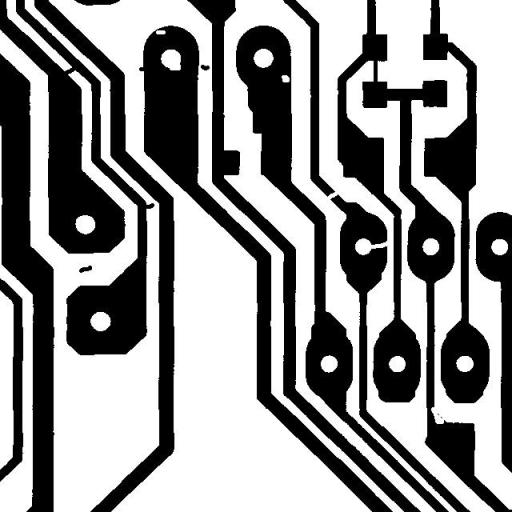copper: (71, 258, 99, 280), (193, 56, 217, 78)
mousebite: (423, 399, 451, 431), (162, 56, 188, 78)
open: (360, 232, 398, 256), (318, 184, 344, 208)
pin-hole: (274, 67, 296, 90), (148, 22, 173, 42)
short: (366, 49, 386, 92), (54, 58, 84, 83)
spur: (135, 195, 162, 216), (131, 60, 154, 78)
